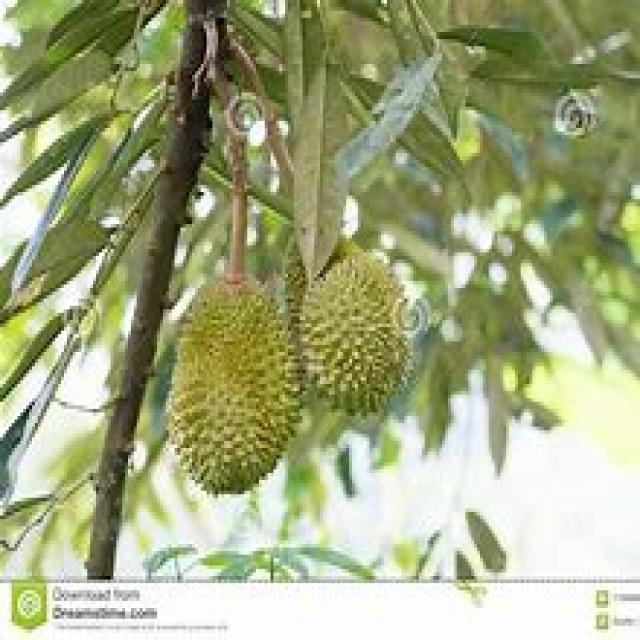immature: (170, 281, 300, 493), (300, 252, 409, 415)
